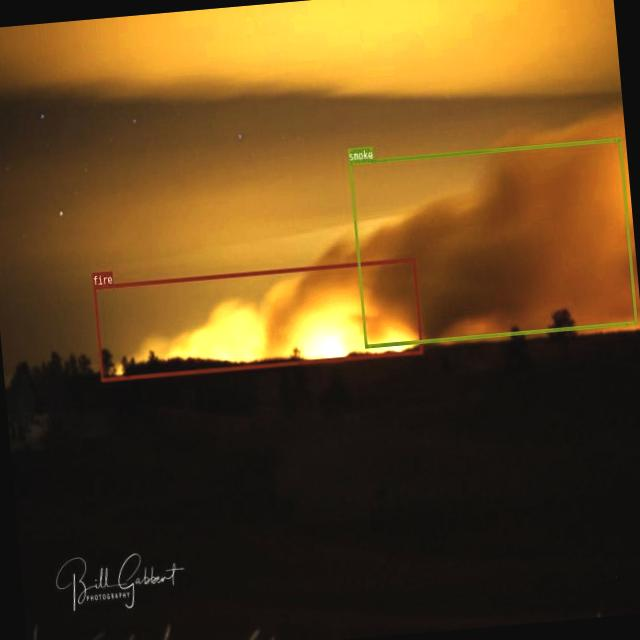fire: (92, 256, 422, 381)
smoke: (348, 136, 637, 347)
